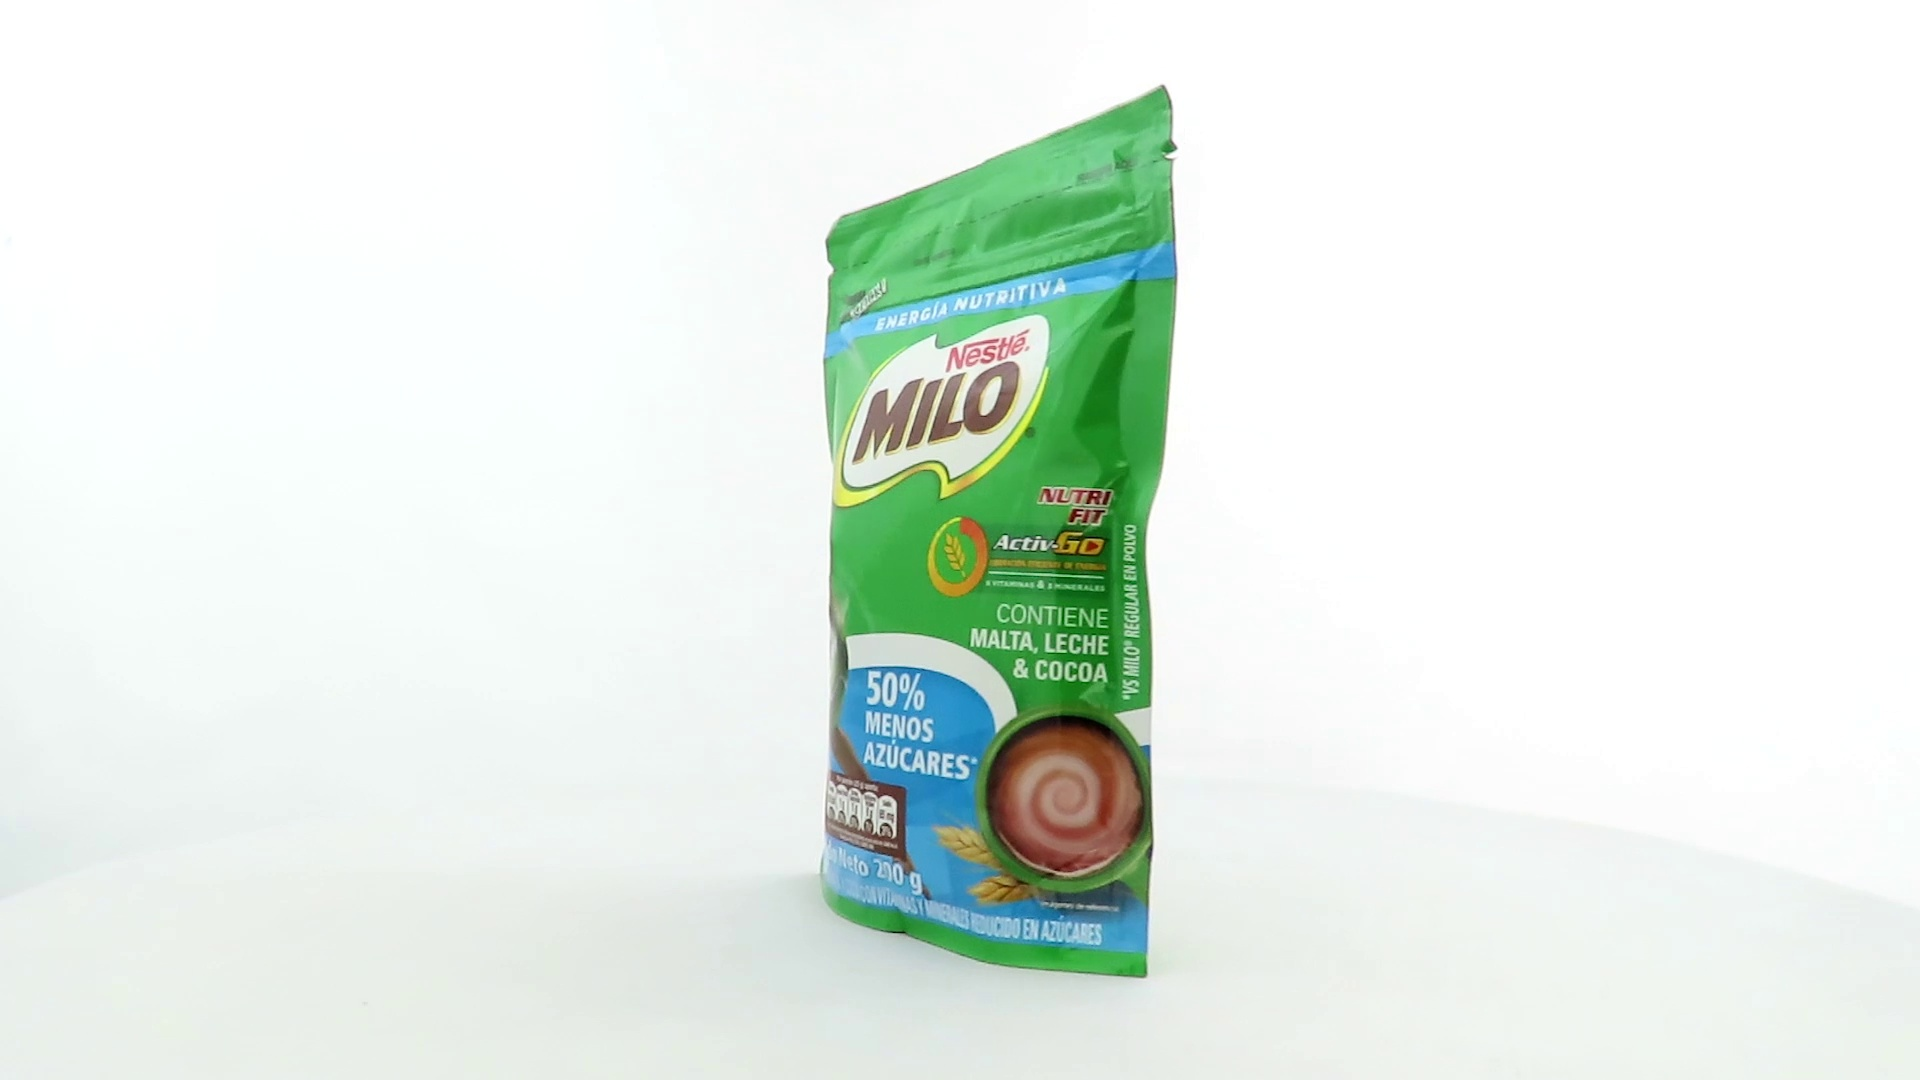COL0170205DYP20000: (794, 80, 1184, 985)
